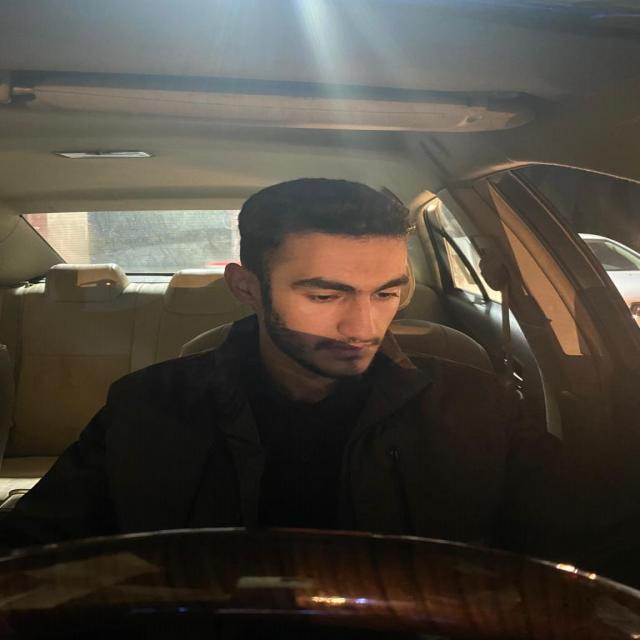person: (227, 182, 421, 386)
